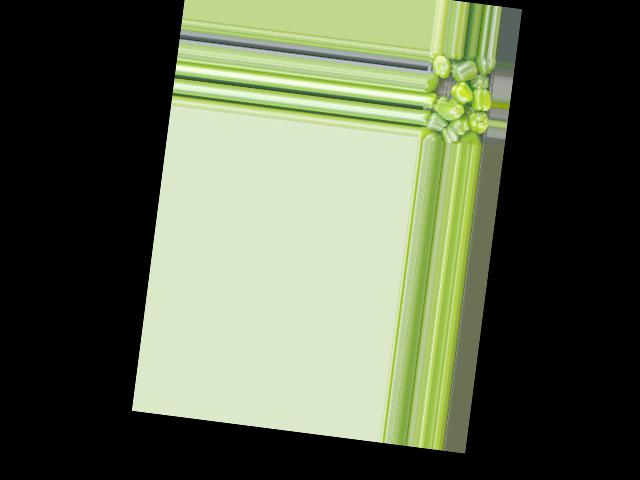bell_pepper: (457, 130, 477, 147)
